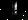person: (10, 2, 17, 16)
